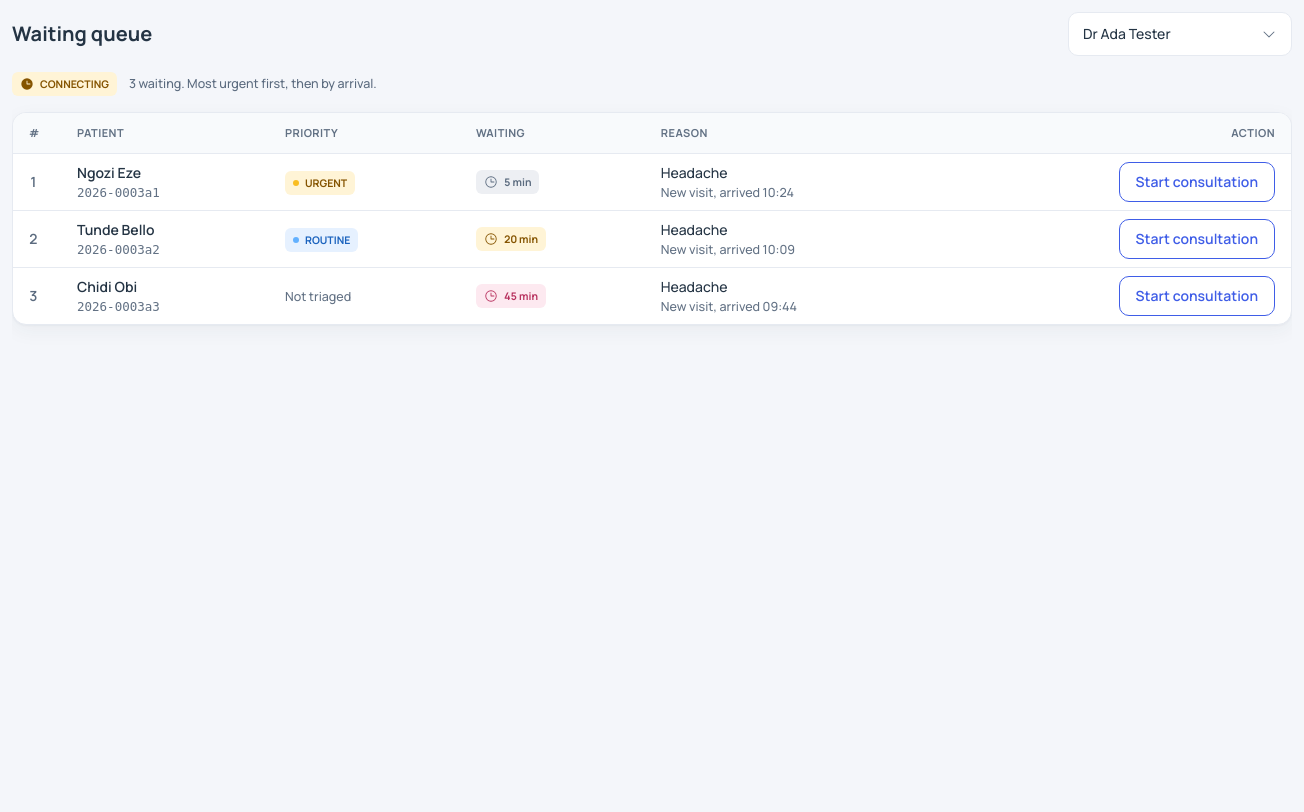
physician queue (FR-3.x) › starts a consultation for the patient whose button is pressed
Click the button with aria-label "Start consultation for Ngozi Eze" at [1197, 182], box [1119, 162, 1275, 202]
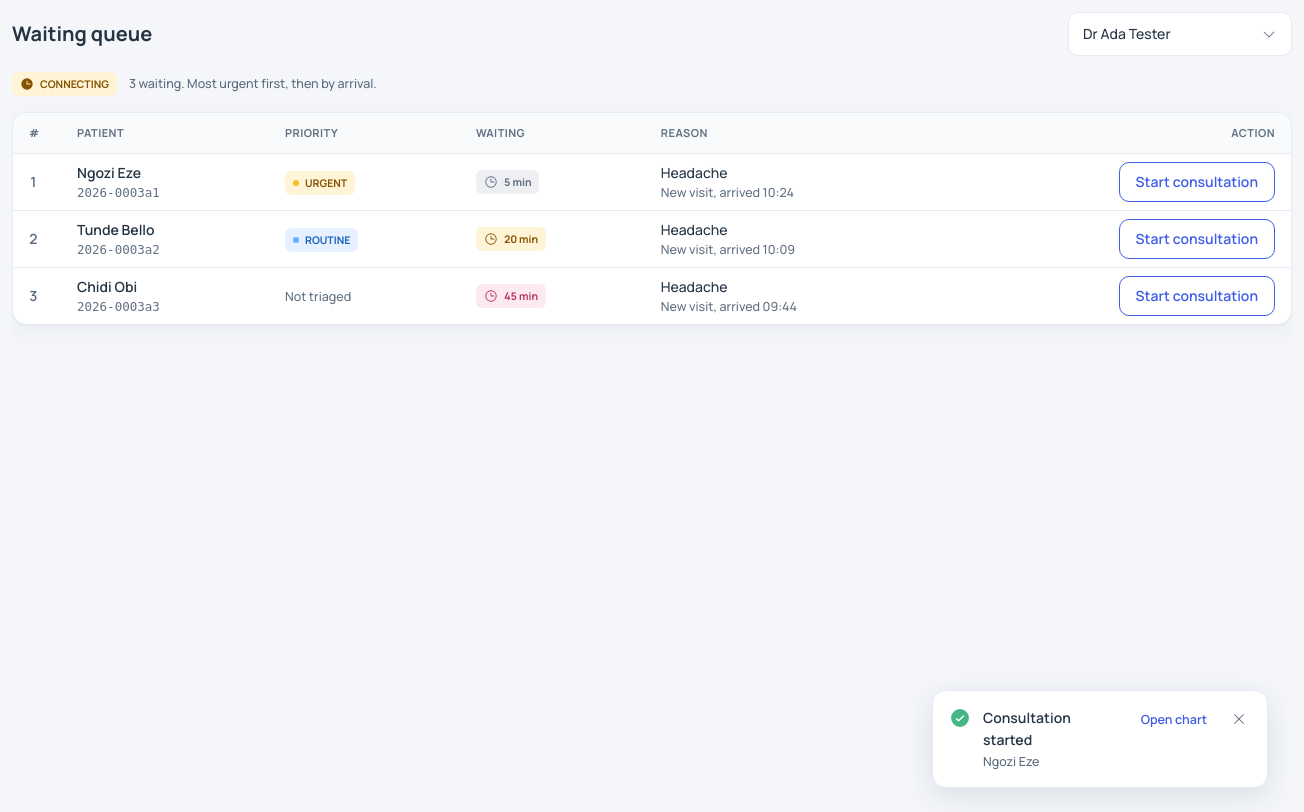
Result: the text "Consultation started" is shown at [983, 708, 1071, 749]
